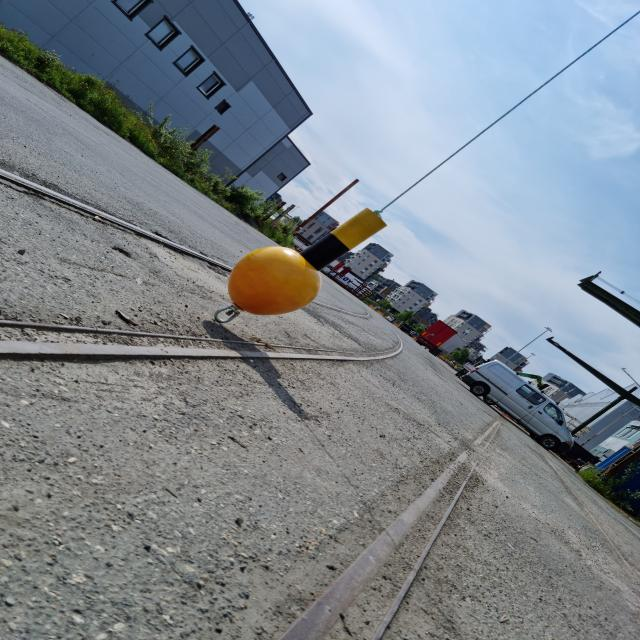west: (227, 208, 389, 316)
